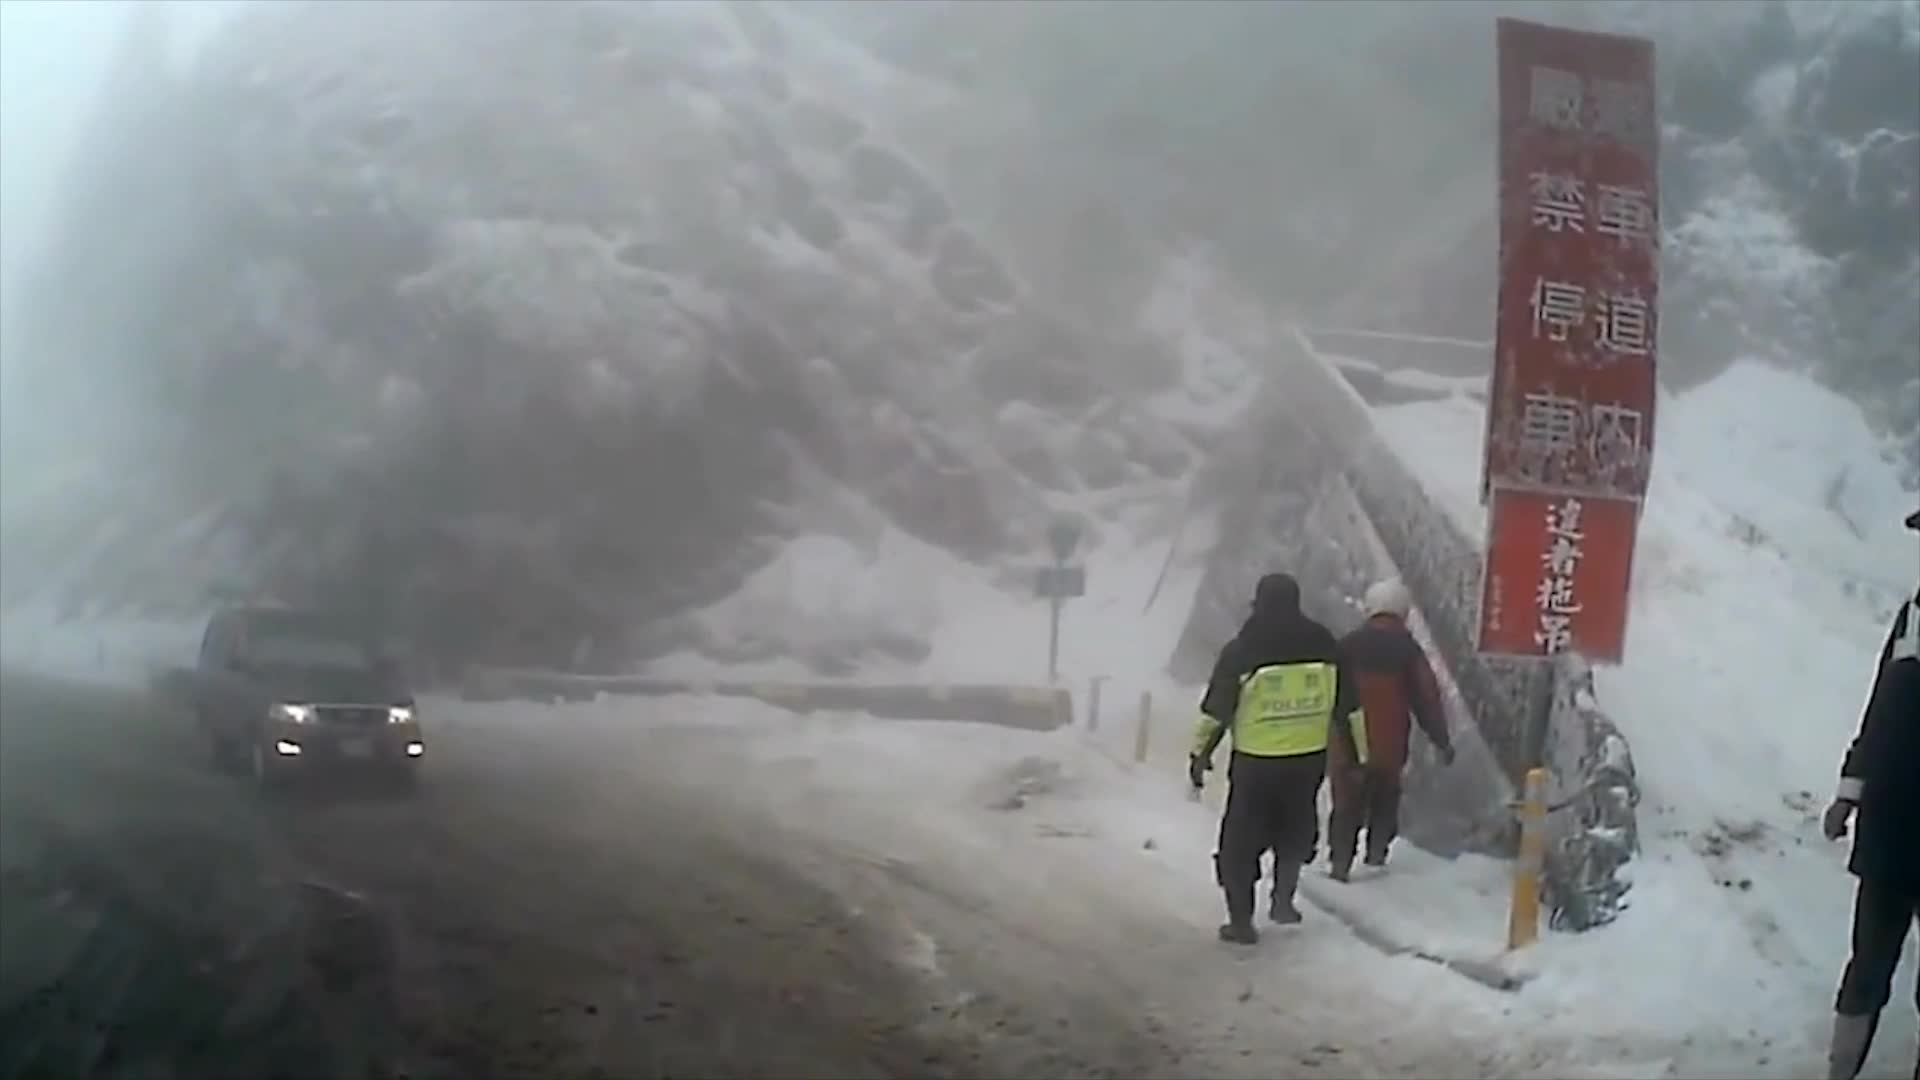pedestrian: (1186, 575, 1379, 952), (1820, 477, 1920, 1080), (1323, 574, 1455, 882)
vehicle: (191, 602, 425, 796)
